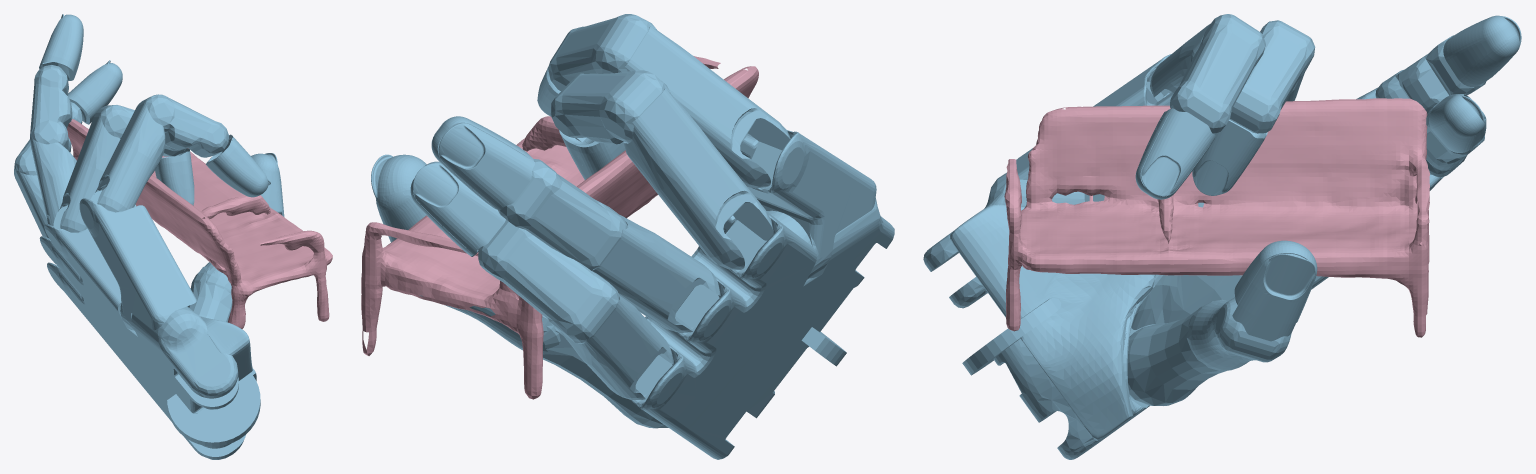
The picture shows the model from 3 angles, left to right: view 1: azimuth 30°, elevation 25°; view 2: azimuth 150°, elevation 25°; view 3: azimuth 270°, elevation 25°; orthographic projection. The views are drawn at different scales.
Visible parts, largest first — view 1: hand_isaac_q, world; view 2: hand_isaac_q, world; view 3: hand_isaac_q, world.
Part boxes in pixels (x1,y1,x2,y2): hand_isaac_q: (14, 14, 284, 459); world: (67, 119, 332, 328); hand_isaac_q: (371, 14, 894, 459); world: (361, 56, 758, 399); hand_isaac_q: (923, 14, 1521, 459); world: (1004, 98, 1429, 337).
Size of the model in its own units: 0.1162 by 0.1509 by 0.1843.
